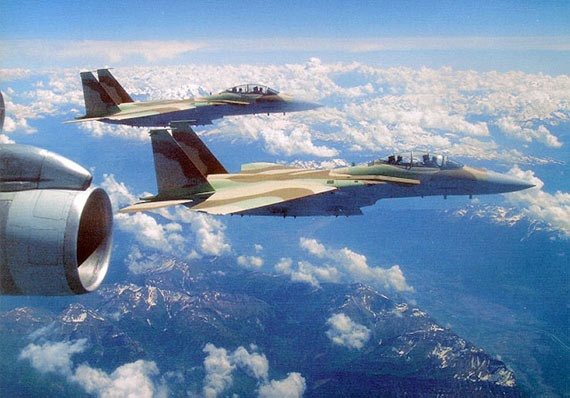airplane: (125, 114, 538, 220), (62, 56, 325, 139)
